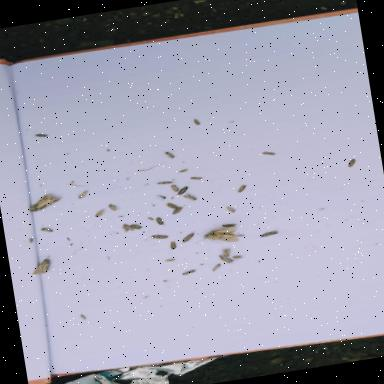pbw: (150, 232, 168, 241), (259, 230, 277, 238), (180, 233, 193, 244), (91, 208, 104, 219), (258, 150, 274, 158), (38, 226, 52, 235), (76, 190, 88, 200), (176, 186, 189, 195), (170, 206, 183, 215), (165, 202, 178, 210), (220, 222, 237, 228), (154, 216, 164, 226), (156, 180, 172, 186), (129, 223, 141, 231), (346, 158, 356, 167), (188, 176, 202, 182), (169, 184, 178, 193), (236, 184, 246, 192), (107, 204, 116, 212), (224, 206, 234, 213), (168, 242, 176, 250), (222, 249, 230, 257), (121, 224, 130, 231)
